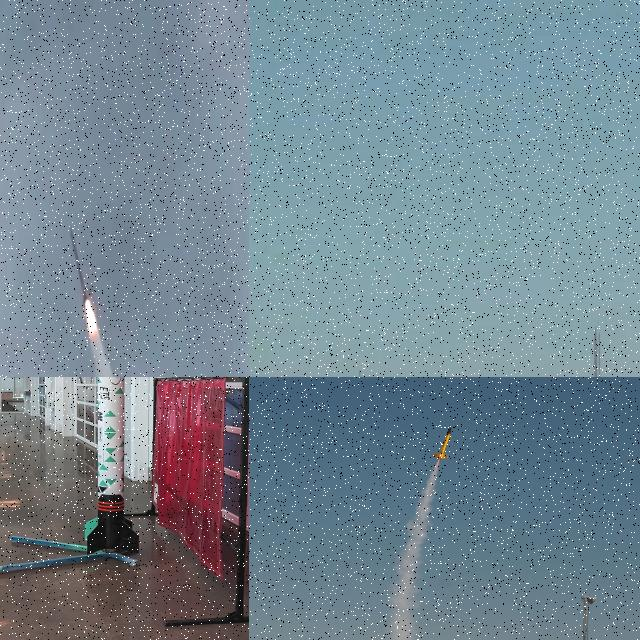Rocket: (84, 377, 139, 555), (69, 224, 90, 309), (433, 425, 452, 460)
